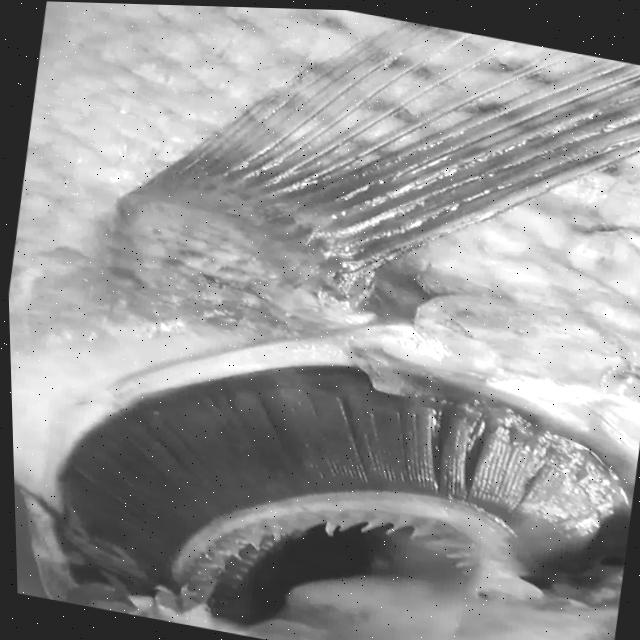Non-Fresh: (53, 302, 607, 626)
